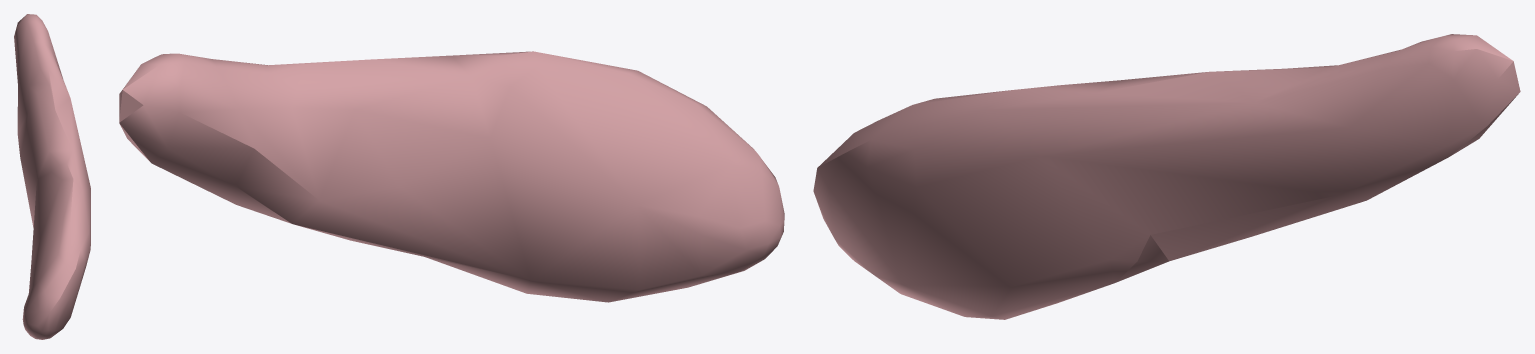
Rendered from fma59805_fj2765.glb.
3 renders of one model, left to right at view 1: azimuth 30°, elevation 25°; view 2: azimuth 150°, elevation 25°; view 3: azimuth 270°, elevation 25°, orthographic. The views are drawn at different scales.
Visible parts, largest first — view 1: FMA59805_FJ2765; view 2: FMA59805_FJ2765; view 3: FMA59805_FJ2765.
Part boxes in pixels (box(x1,y1,x2,y2)): FMA59805_FJ2765: box(14, 14, 90, 339); FMA59805_FJ2765: box(119, 51, 784, 302); FMA59805_FJ2765: box(813, 34, 1520, 319).
Bounding box in the file's own units: 0.0126 × 0.0131 × 0.0226.
